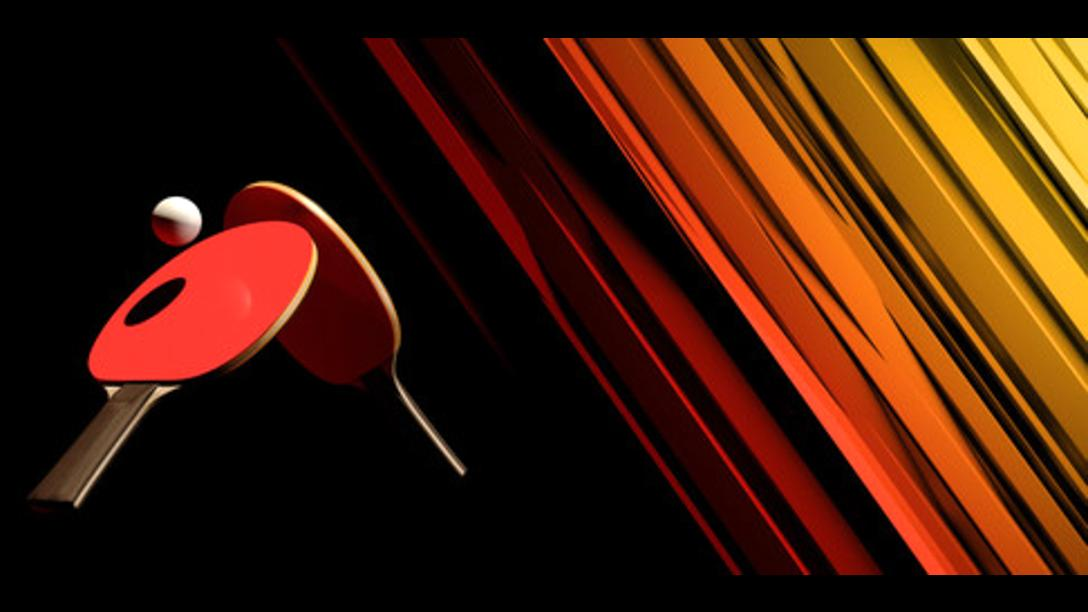Table-Tennis-Ball: (152, 195, 202, 243)
